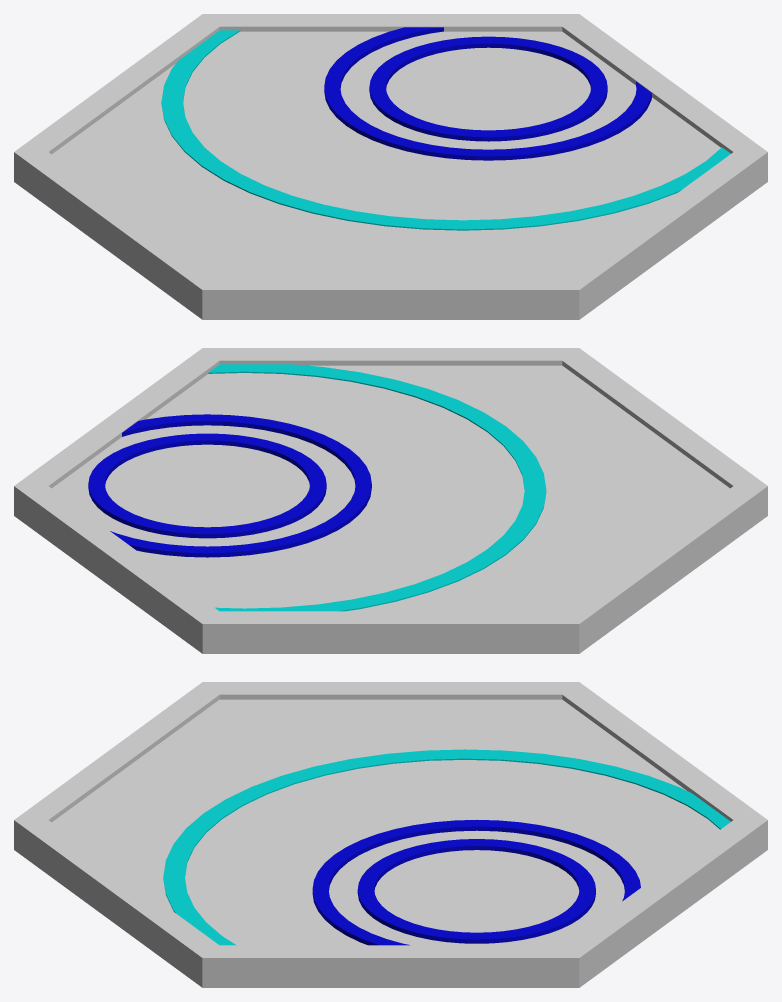
File: placas_civi4.fbx
3 renders of one model, top to bottom at view 1: azimuth 30°, elevation 25°; view 2: azimuth 150°, elevation 25°; view 3: azimuth 270°, elevation 25°, orthographic.
Visible parts, largest first — view 1: placa_base_low, placa4_low; view 2: placa_base_low, placa4_low; view 3: placa_base_low, placa4_low.
Part boxes in pixels (bbox=[...]): placa_base_low: bbox=[14, 14, 767, 319]; placa4_low: bbox=[161, 27, 730, 230]; placa_base_low: bbox=[14, 348, 767, 653]; placa4_low: bbox=[88, 364, 546, 611]; placa_base_low: bbox=[14, 682, 767, 987]; placa4_low: bbox=[163, 749, 730, 945].
Size of the model in its own units: 346 by 17.47 by 400.
